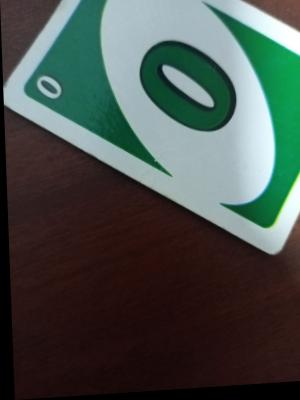num_0: (136, 23, 249, 166), (31, 65, 76, 123)
